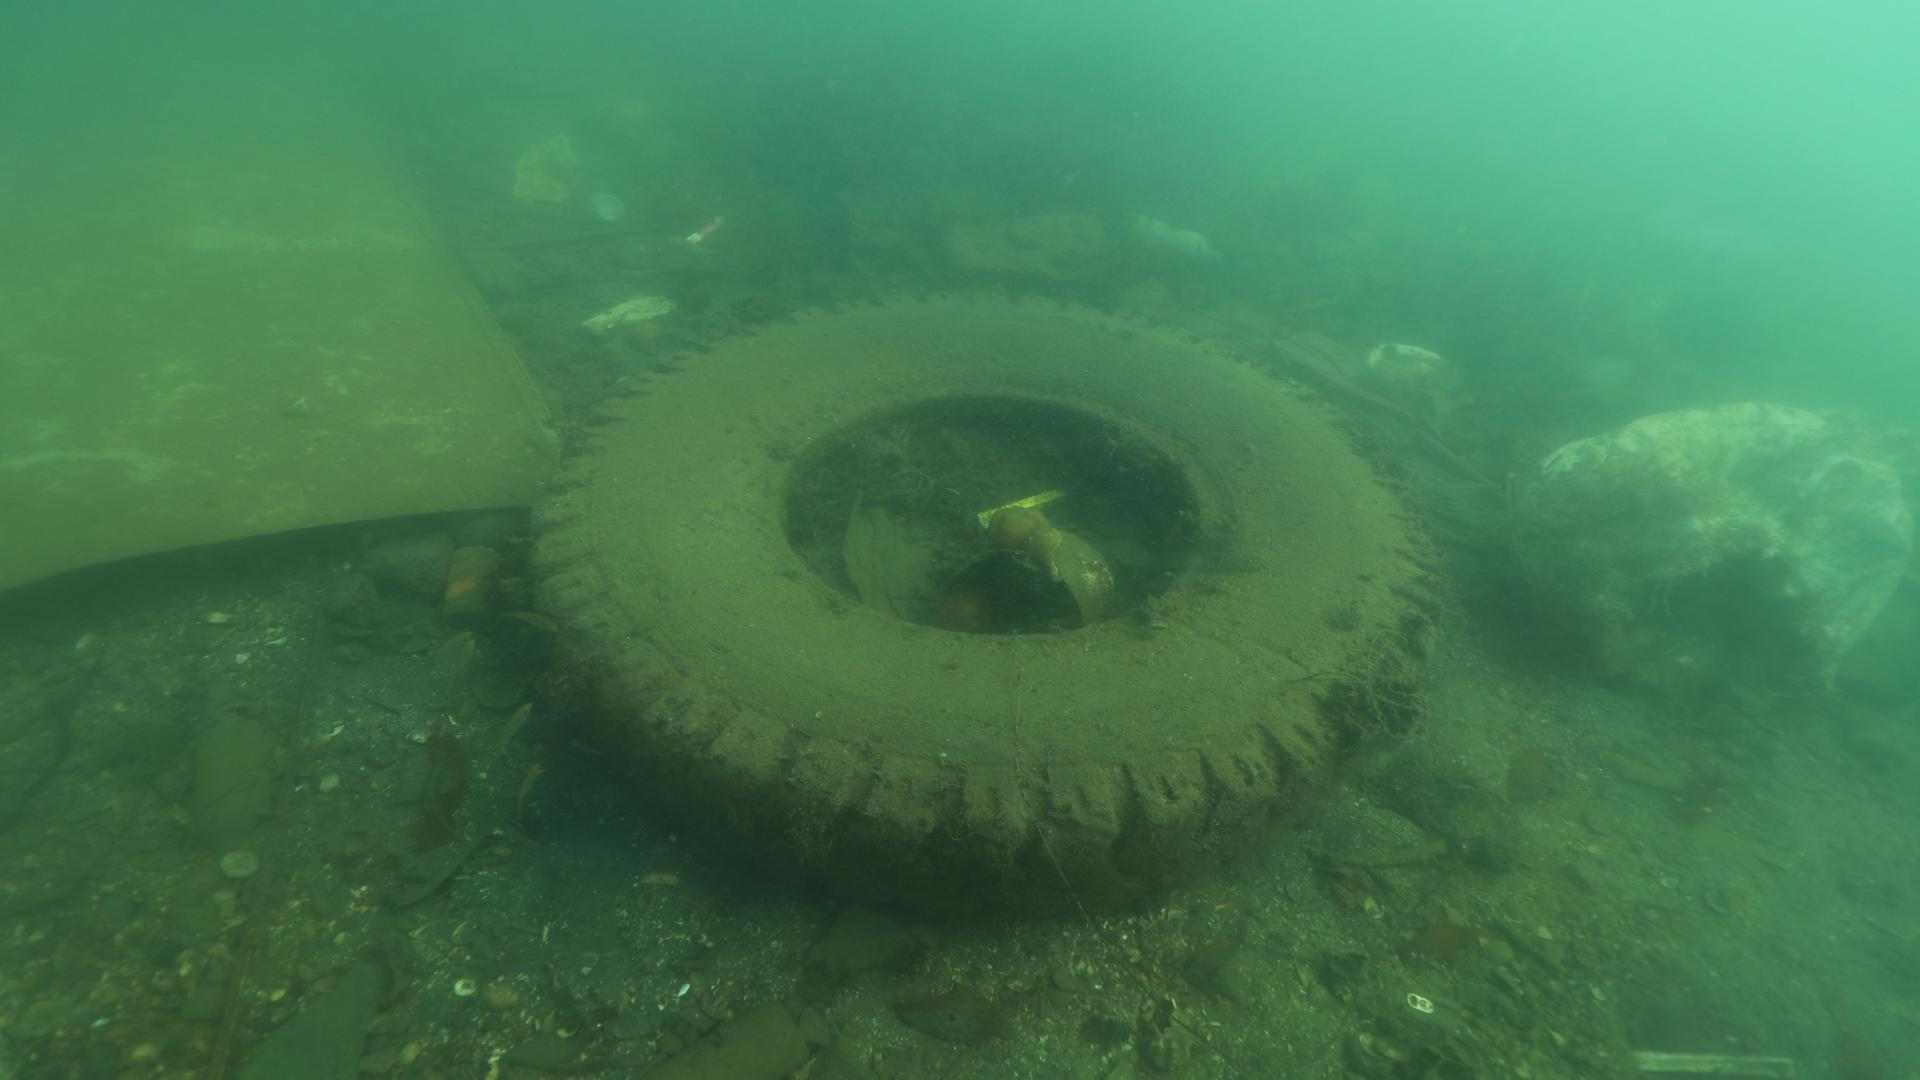tire: (533, 282, 1444, 918)
